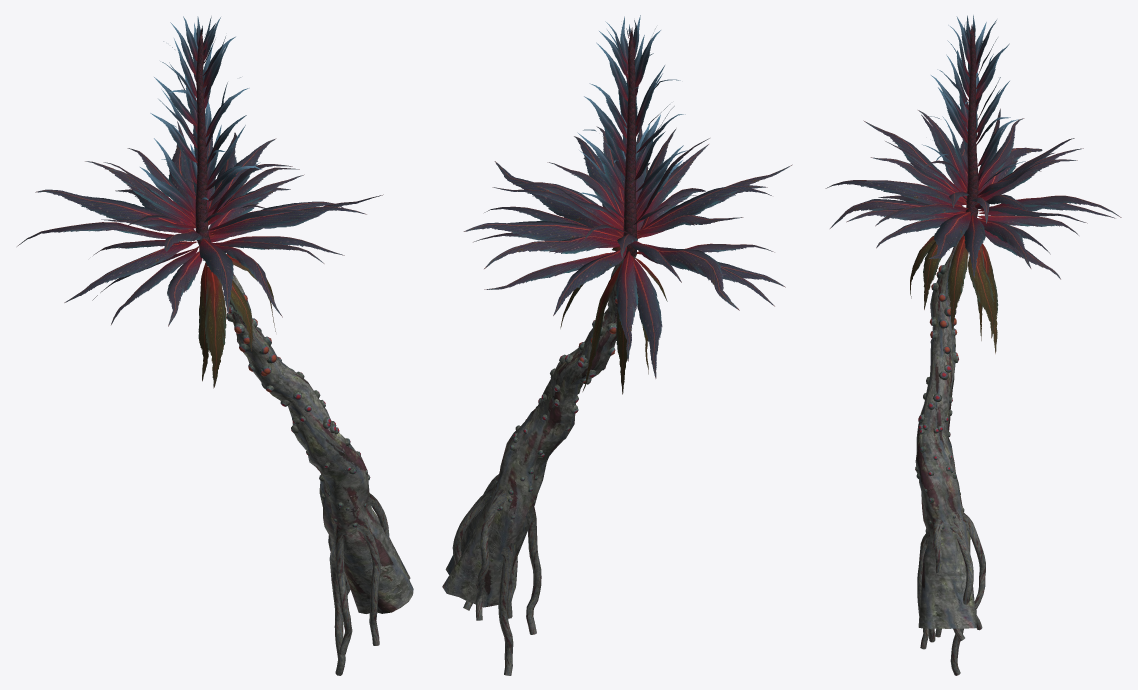
File: Plant - Alien Plant 15C-DRCIVFfQ.glb
The picture shows the model from 3 angles, left to right: view 1: azimuth 30°, elevation 25°; view 2: azimuth 150°, elevation 25°; view 3: azimuth 270°, elevation 25°; orthographic projection. The views are drawn at different scales.
Parts seen in each view (by area): view 1: Plant15C(Clone); view 2: Plant15C(Clone); view 3: Plant15C(Clone).
Part boxes in pixels (x1=…): Plant15C(Clone): x1=17, y1=16, x2=413, y2=675; Plant15C(Clone): x1=442, y1=15, x2=792, y2=675; Plant15C(Clone): x1=825, y1=15, x2=1121, y2=675.
Size of the model in its own units: 9.8 by 18.59 by 8.4.
Materials: 4 (4 with a texture image).
